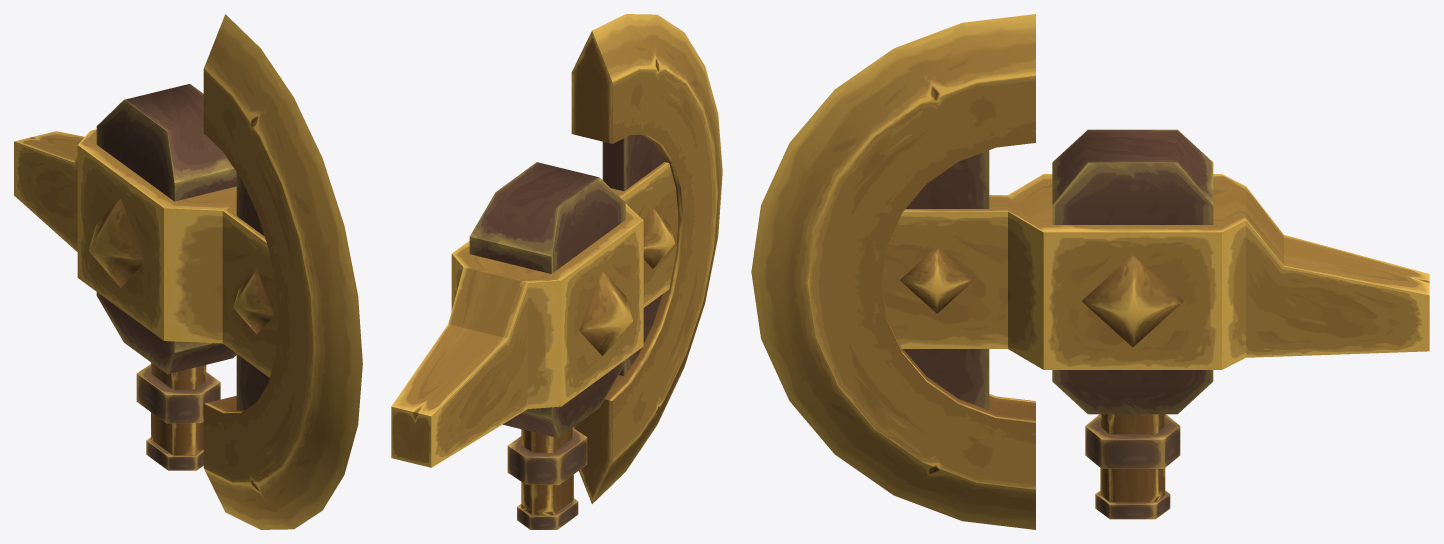
File: SM_WEP_head_axe_battle_29.fbx
3 renders of one model, left to right at view 1: azimuth 30°, elevation 25°; view 2: azimuth 150°, elevation 25°; view 3: azimuth 270°, elevation 25°, orthographic. The views are drawn at different scales.
Visible parts, largest first — view 1: SM_WEP_head_axe_battle_29; view 2: SM_WEP_head_axe_battle_29; view 3: SM_WEP_head_axe_battle_29.
Boxes of the visible parts, x1,y1,x2,y2 form: SM_WEP_head_axe_battle_29: (14, 14, 362, 529); SM_WEP_head_axe_battle_29: (391, 14, 722, 529); SM_WEP_head_axe_battle_29: (751, 14, 1429, 529).
Bounding box in the file's own units: 19.47 × 51.49 × 61.34.
